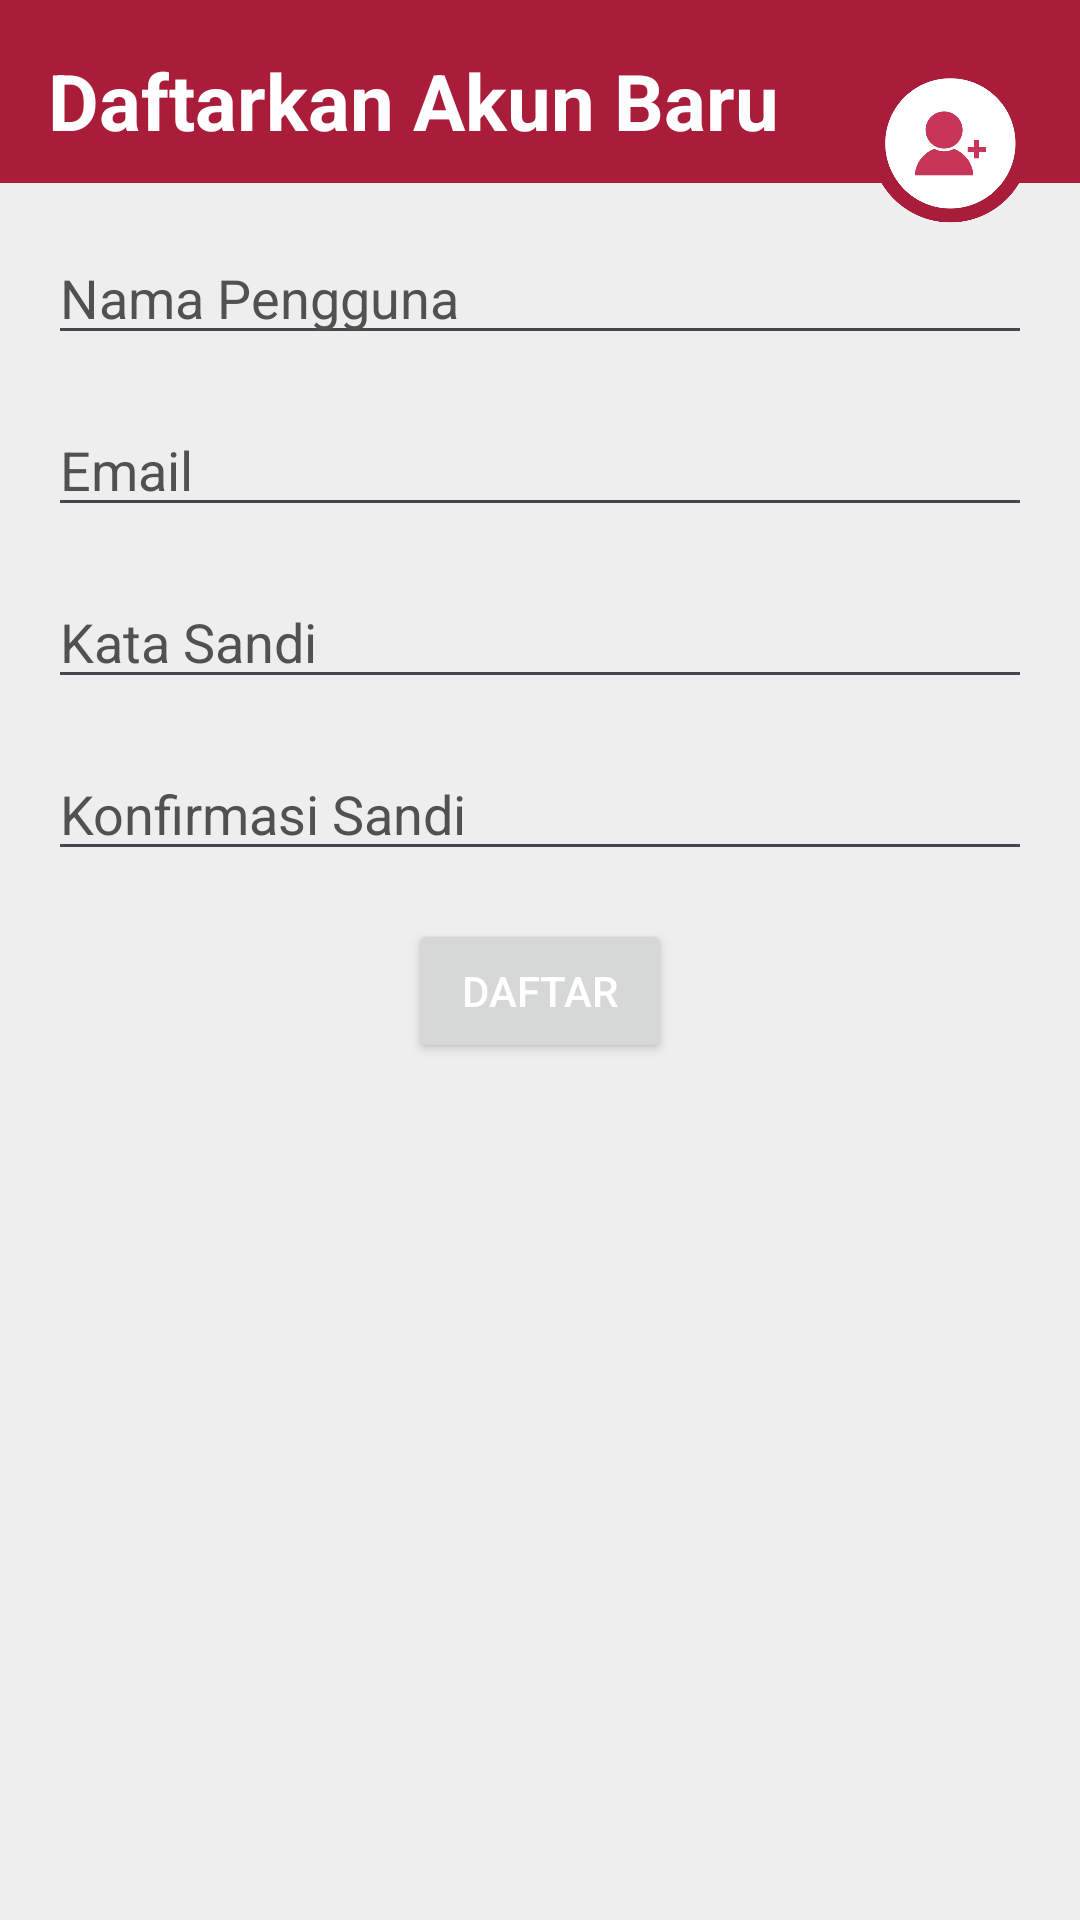

Where icons sit on this 1080w x 1920h app screen, as box(x1, y1, x2, y2):
register: box(885, 78, 1016, 209)
